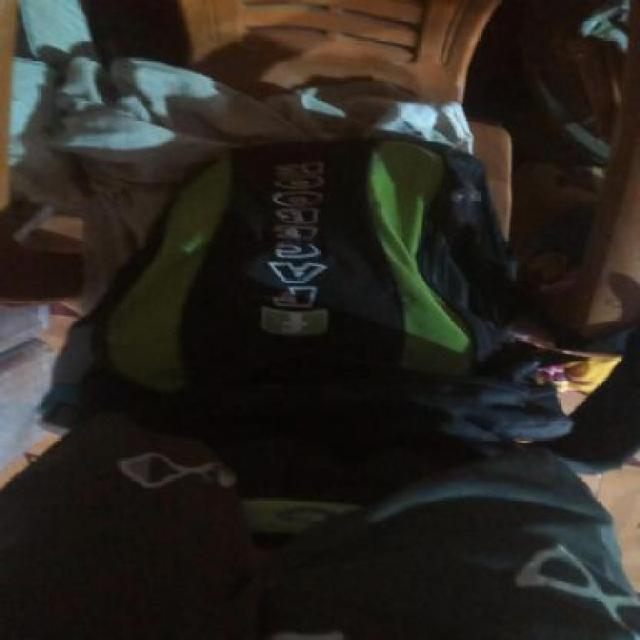backpack: (80, 128, 578, 455)
